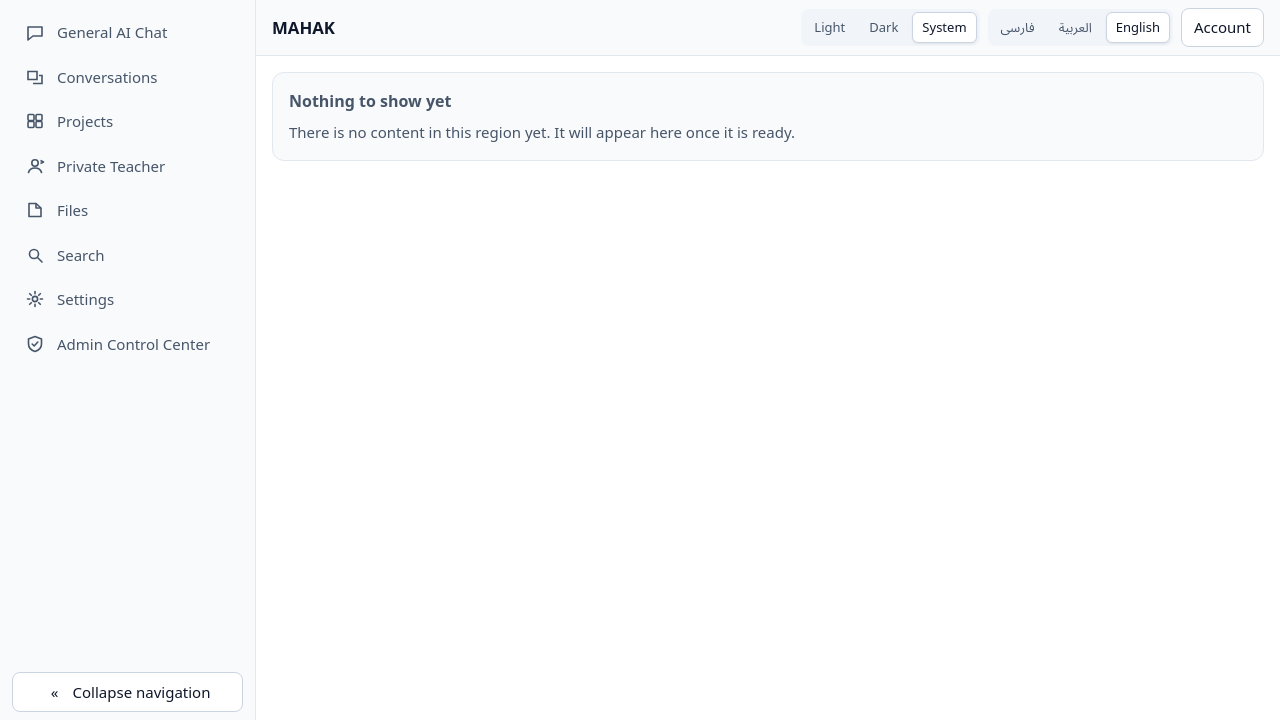
it: sidebar collapse and expand (FR-006, FR-007, NFR-003) › transitions to a compact state that consumes substantially less width
The image size is (1280, 720).
What coordinates should you click on to do the following:
click the button with test id "sidebar-collapse-control"
I would click on:
 (128, 692)
Its box is left=12, top=672, right=243, bottom=712.
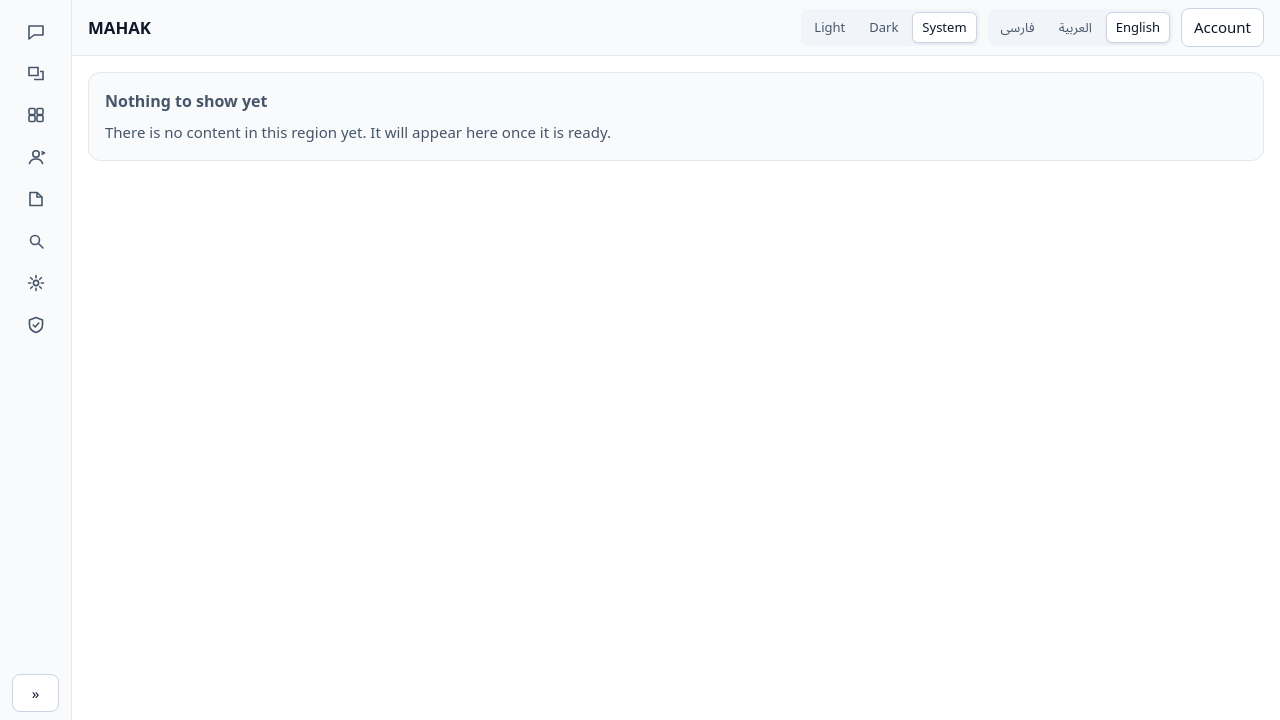
Result: the button with test id "sidebar-collapse-control" is collapsed at left=12, top=674, right=59, bottom=712
